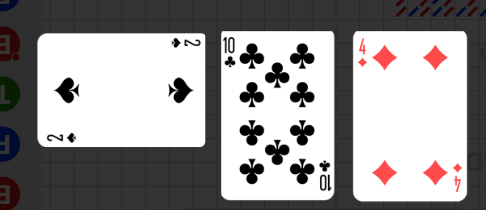10C: (316, 158, 332, 192), (223, 35, 238, 70)
2S: (45, 130, 79, 144)
